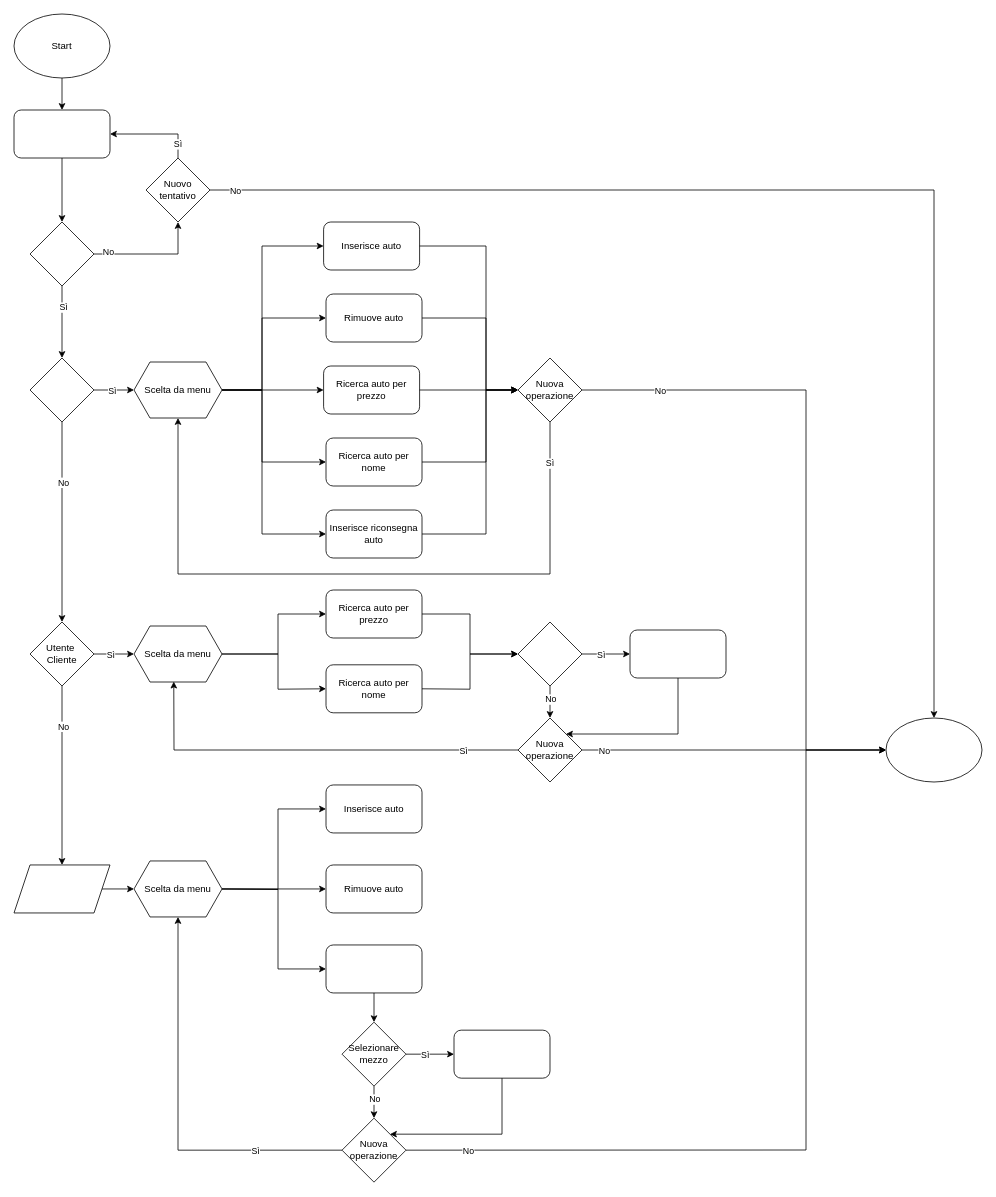
The diagram is 996 pixels wide and 1197 high, and some of its shapes have lost their labels. The centre of each missing label's shape, as x and y in pixels:
End: (x=933, y=749)
Login: (x=61, y=133)
Noleggia auto: (x=677, y=653)
Ricerca mezzo per nome: (x=373, y=968)
Seleziona mezzo: (x=501, y=1053)
Selezionare auto: (x=549, y=653)
Utente Batman: (x=61, y=888)
Utente esistente: (x=61, y=253)
Utente Manager: (x=61, y=389)
